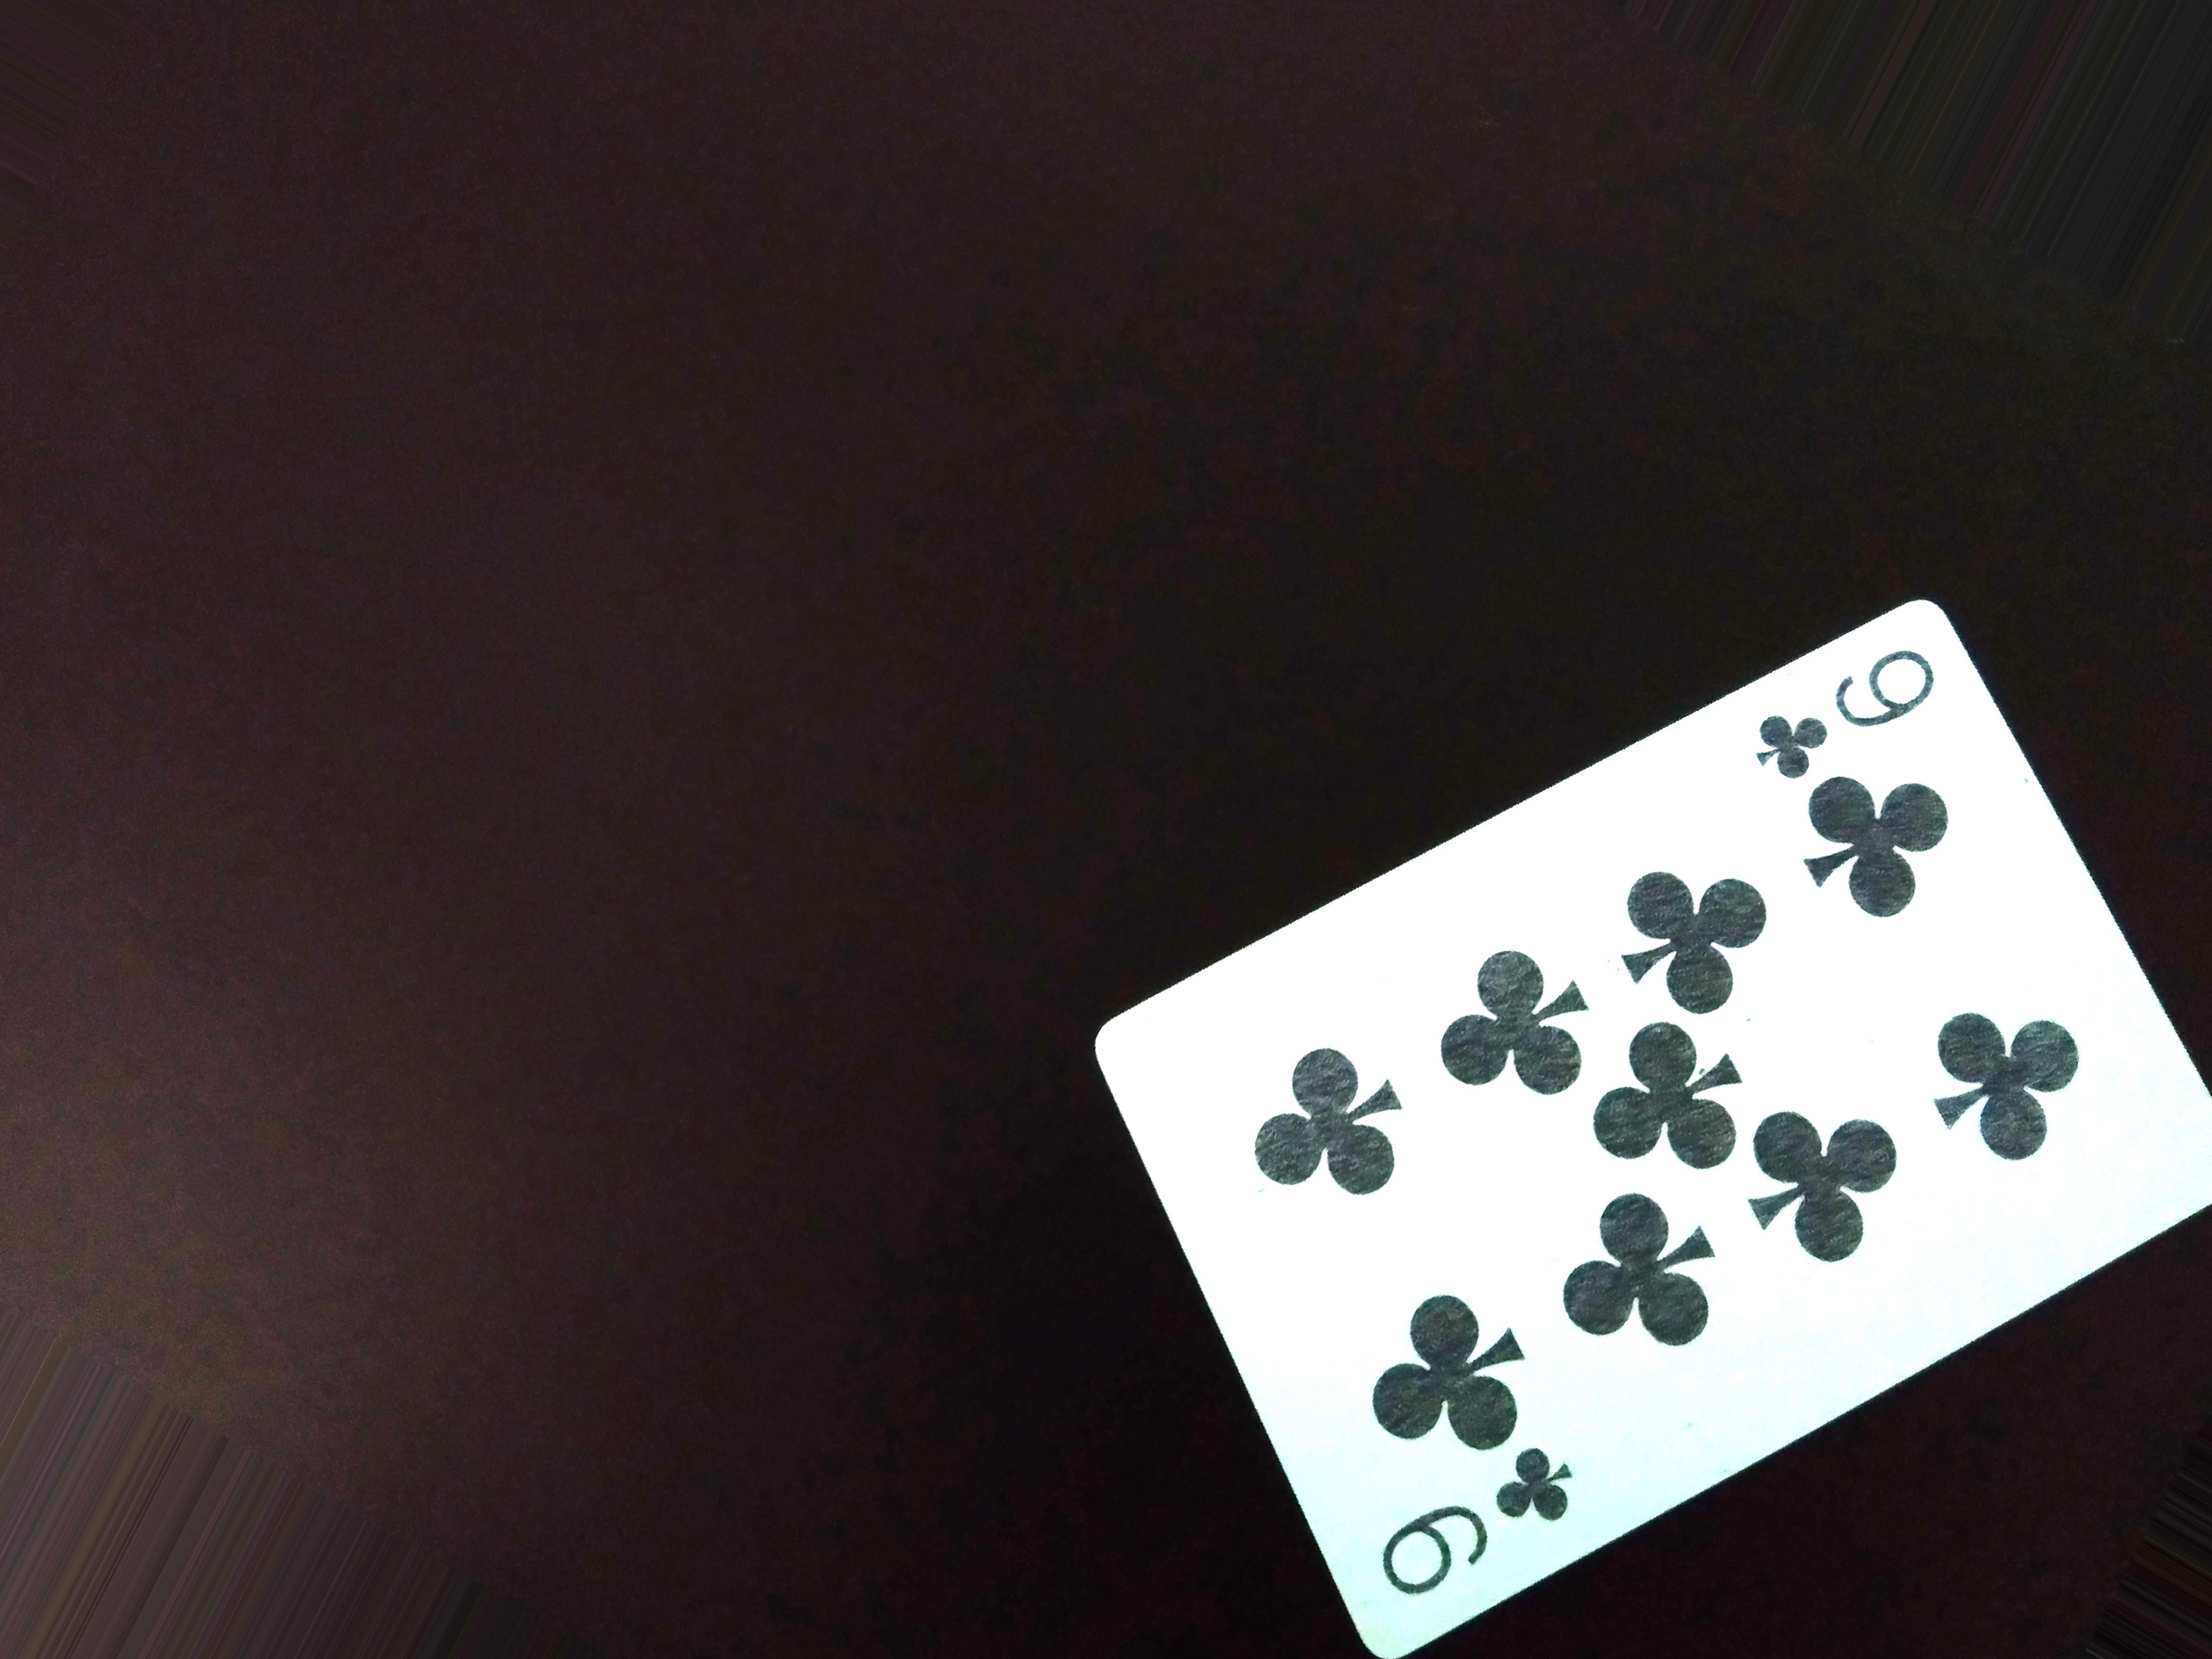9C: (1738, 626, 1958, 788)
